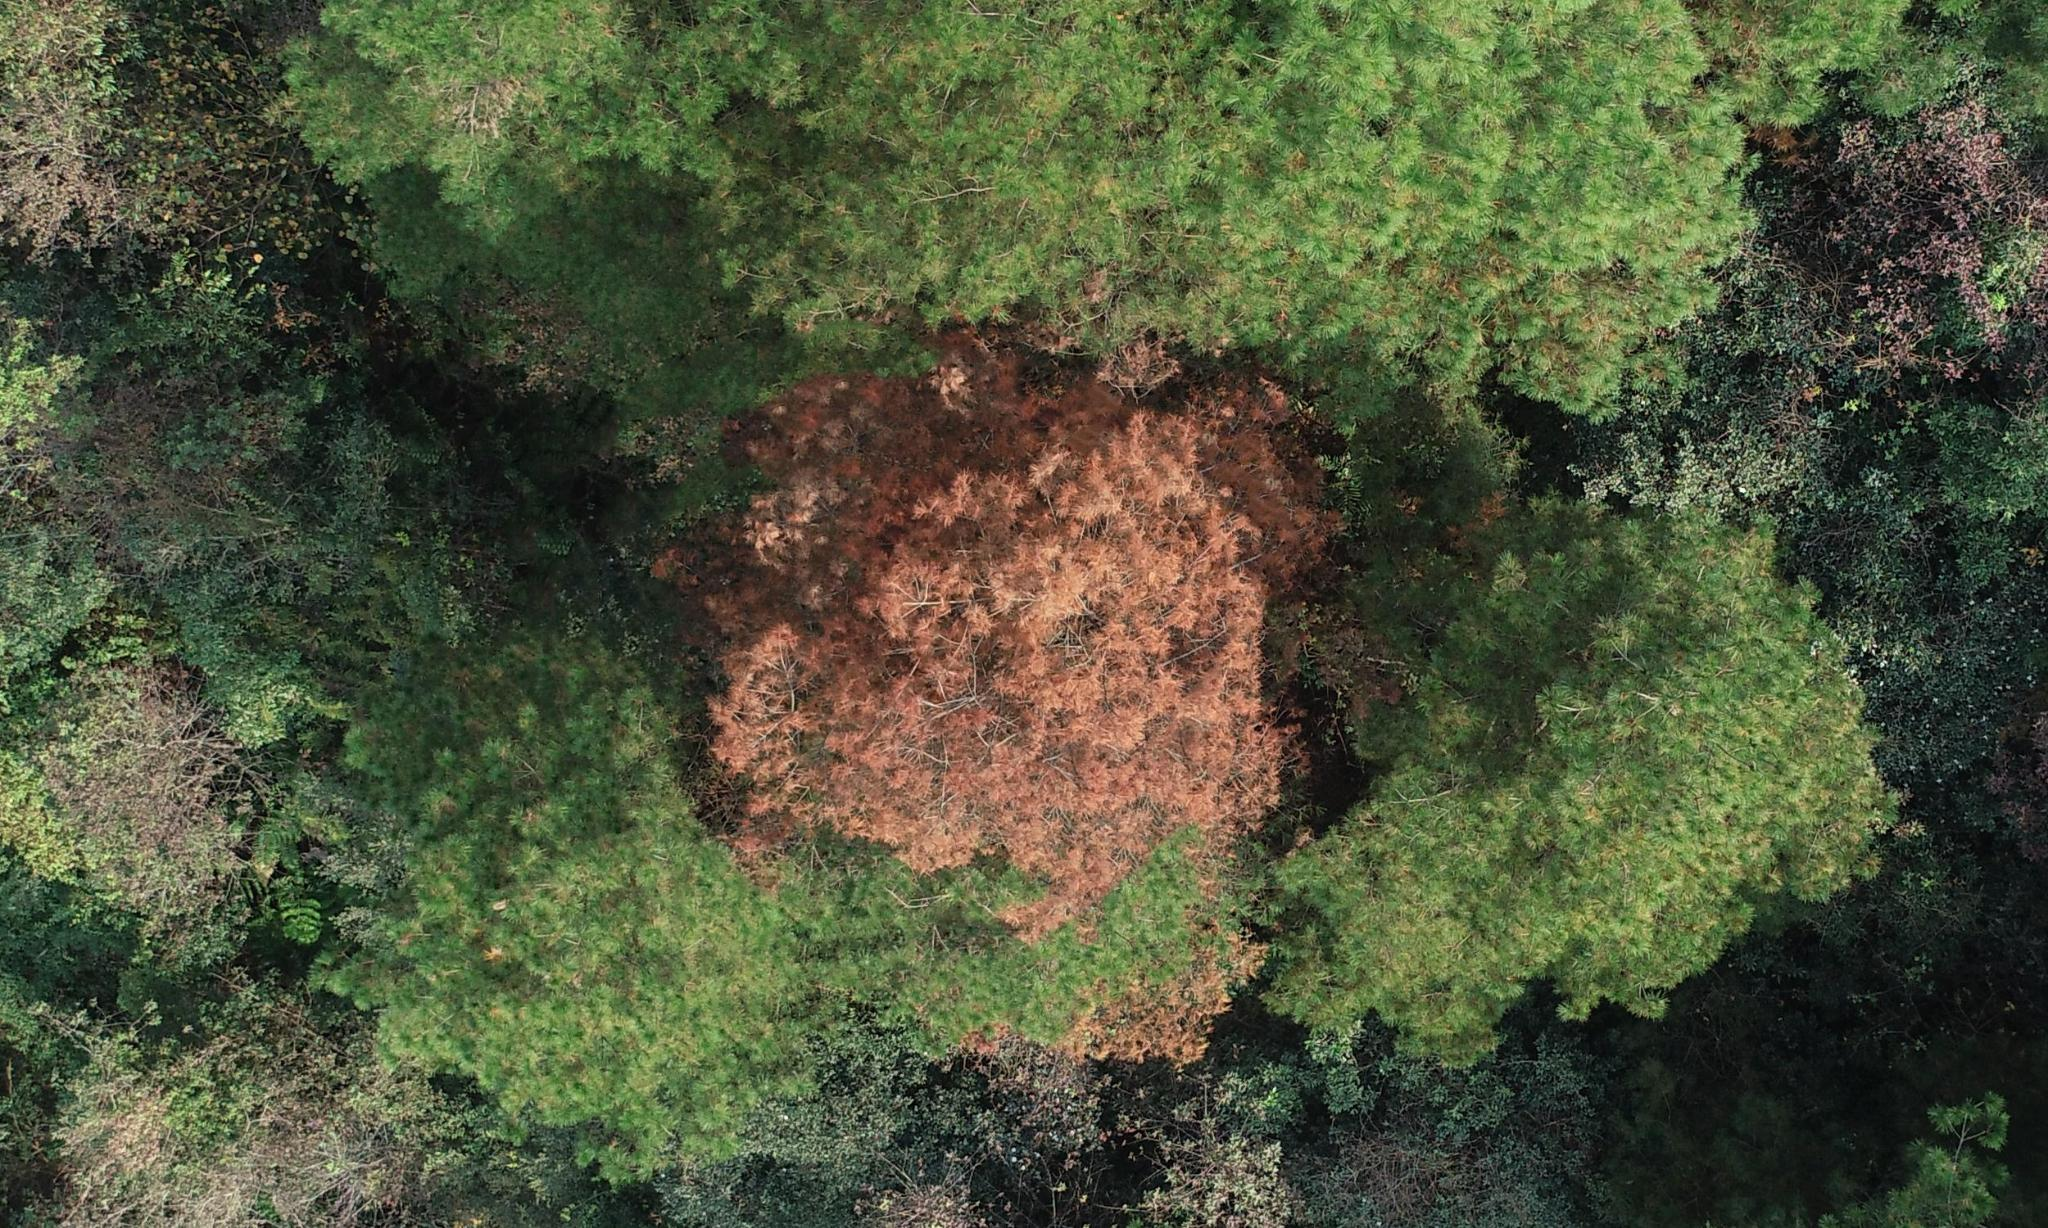heavy: (627, 308, 1297, 895)
